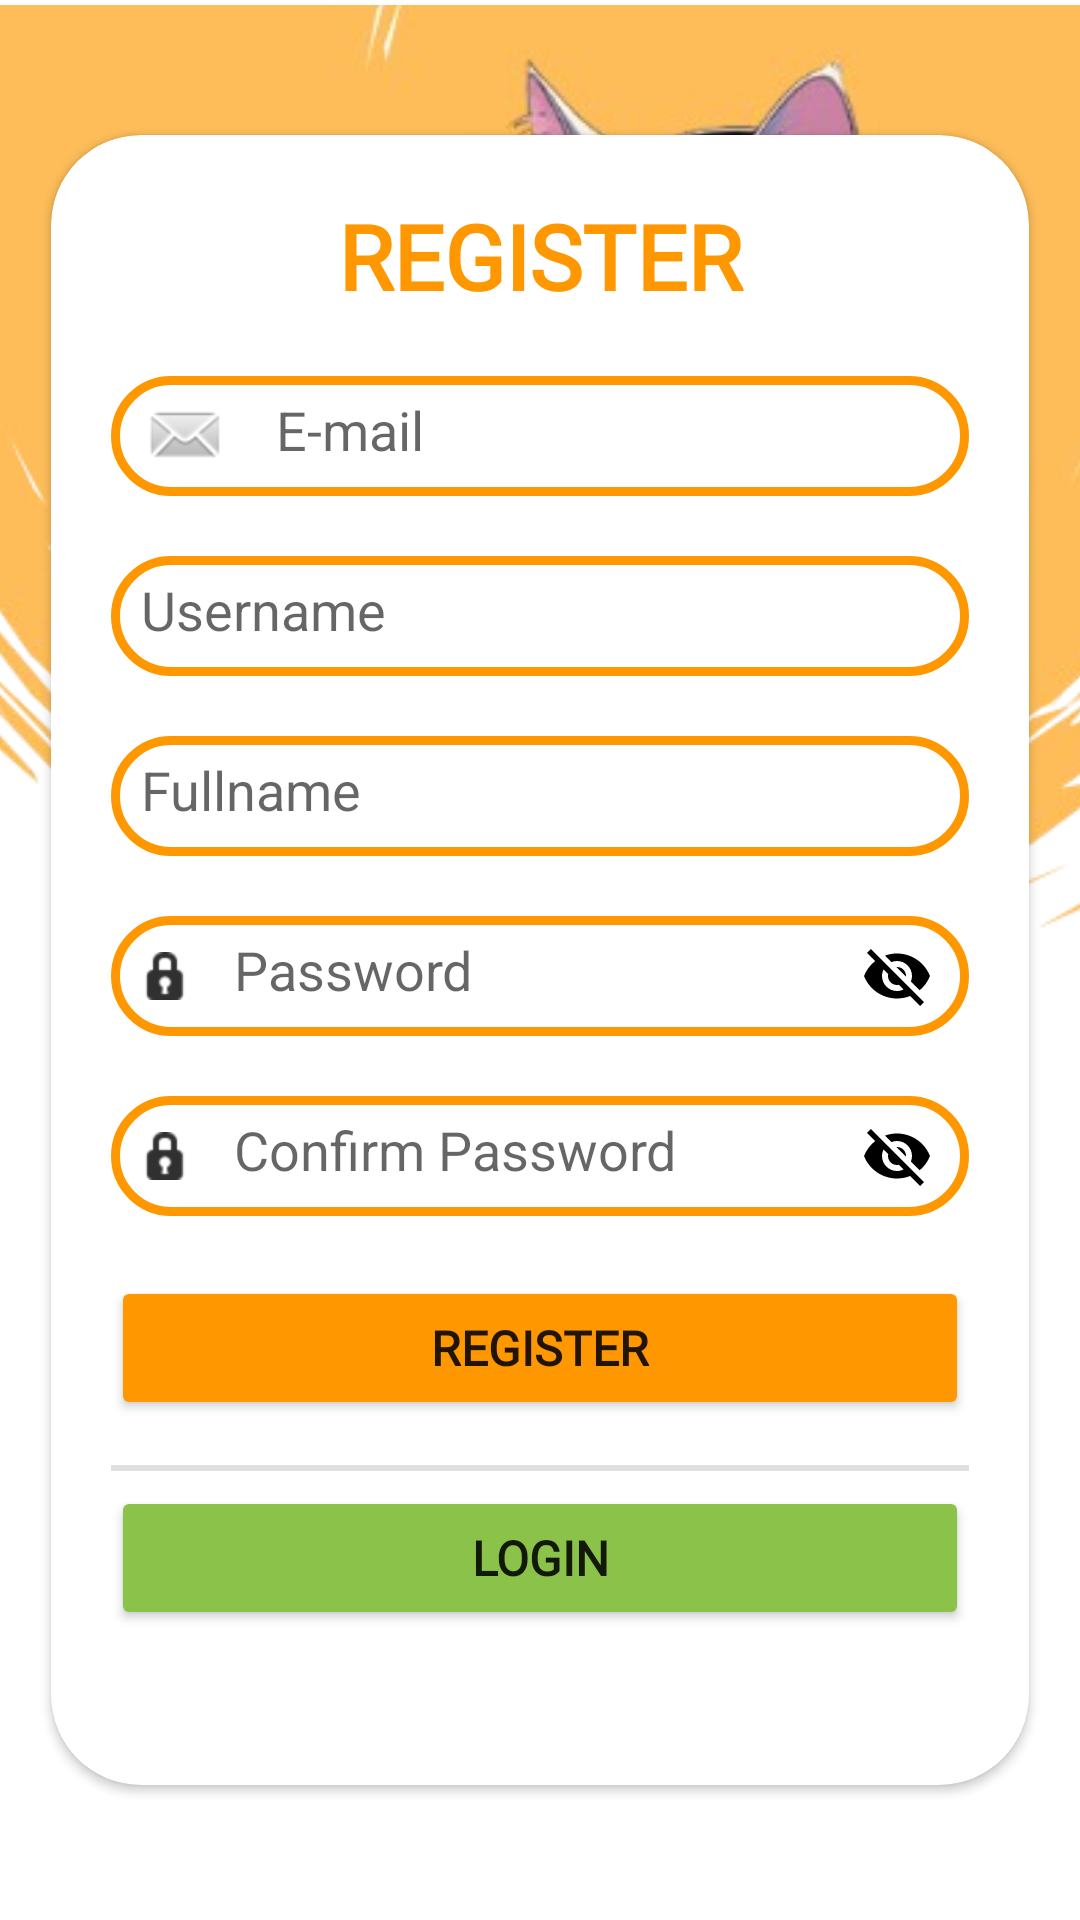

Named icons in this screenshot (1080 × 1920) and their bounding boxes, bbox=(x1, y1, x2, y2):
visibility off: bbox=(864, 949, 930, 1006), bbox=(864, 1129, 930, 1186)
